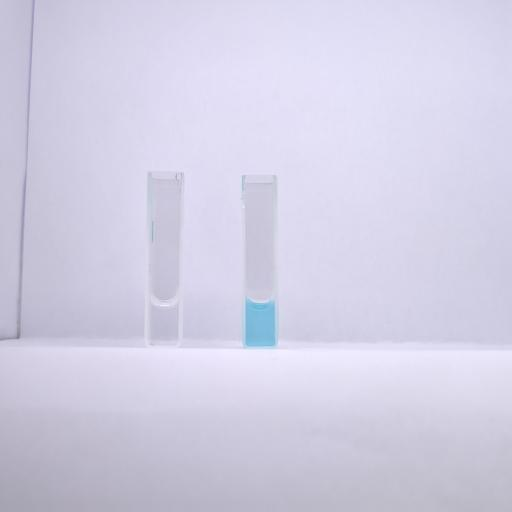cuvette: (143, 167, 186, 350), (240, 172, 280, 350)
liquid: (149, 299, 179, 345), (245, 300, 275, 346)
